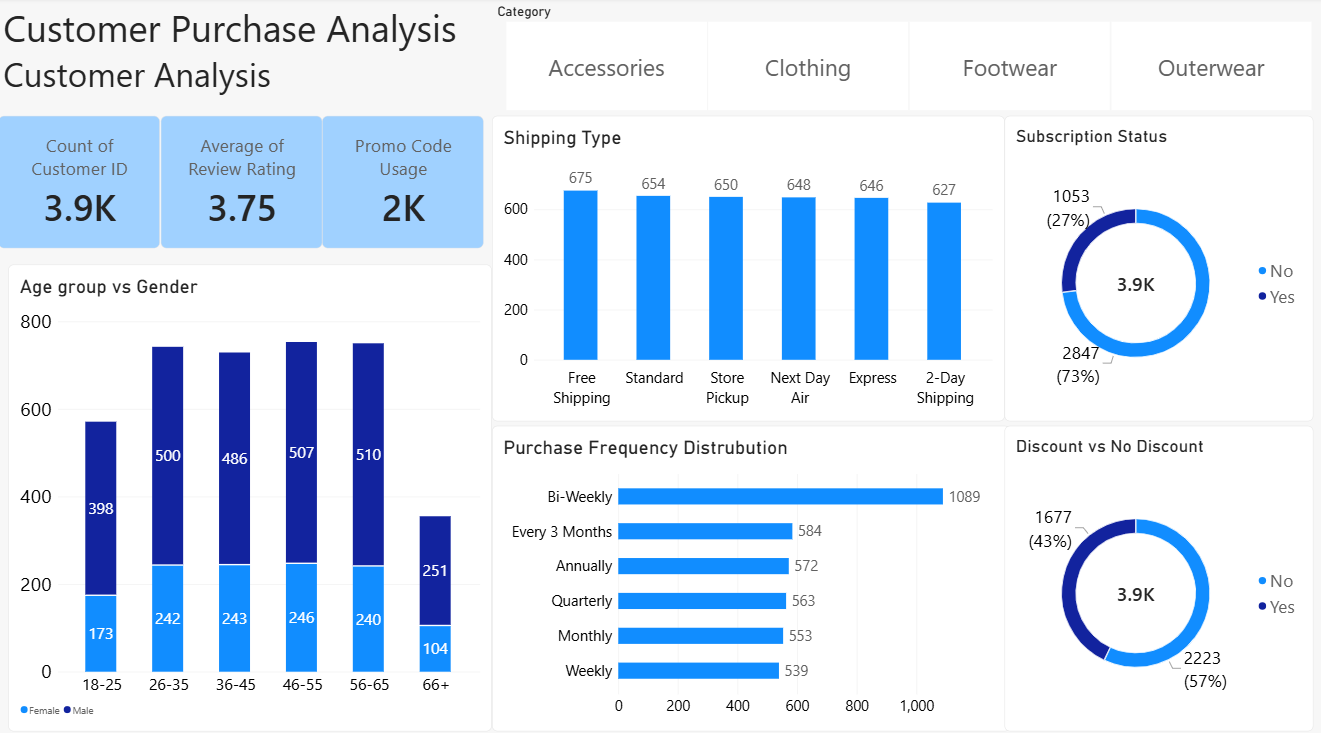

What the dashboard file says about the page in this screenshot:
{"tool":"powerbi","page":{"name":"Page 2","canvas":[1920,1080],"ordinal":1},"visuals":[{"type":"textbox","box":[8.6,6.5,708.5,166.3],"z":0},{"type":"barChart","title":"Purchase Frequency Distrubution","fields":{"Category":["customer_history_cleaned.Frequency of Purchases"],"Y":["CountNonNull(customer_history_cleaned.Customer ID)"]},"box":[715.8,621.1,750,442.1],"z":1000},{"type":"slicer","fields":{"Values":["customer_history_cleaned.Category"]},"box":[715.8,5.3,1205.3,160.5],"z":2000},{"type":"columnChart","title":"Age group vs Gender","fields":{"Category":["customer_history_cleaned.Age Group"],"Series":["customer_history_cleaned.Gender"],"Y":["CountNonNull(customer_history_cleaned.Customer ID)"]},"box":[15.8,386.8,700,676.3],"z":3000},{"type":"columnChart","title":"Shipping Type","fields":{"Category":["customer_history_cleaned.Shipping Type"],"Y":["CountNonNull(customer_history_cleaned.Customer ID)"]},"box":[715.8,171.1,742.1,442.1],"z":4000},{"type":"donutChart","title":"Subscription Status","fields":{"Category":["customer_history_cleaned.Subscription Status"],"Y":["CountNonNull(customer_history_cleaned.Customer ID)"]},"box":[1457.9,171.1,447.4,442.1],"z":5000},{"type":"cardVisual","fields":{"Data":["CountNonNull(customer_history_cleaned.Customer ID)"]},"box":[2.6,171.1,234.2,192.1],"z":6000},{"type":"donutChart","title":"Discount vs No Discount","fields":{"Category":["customer_history_cleaned.Discount Applied"],"Y":["CountNonNull(customer_history_cleaned.Customer ID)"]},"box":[1457.9,621.1,447.4,442.1],"z":9004},{"type":"cardVisual","fields":{"Data":["Avg(customer_history_cleaned.Review Rating)"]},"box":[236.8,171.1,234.2,192.1],"z":9005},{"type":"cardVisual","fields":{"Data":["customer_history_cleaned.Promo Code Usage"]},"box":[471.1,171.1,234.2,192.1],"z":9006}]}

Visuals, with their boxes in screenshot pixels (x1, y1, x2, y2), scaled from the page's 1920x1080 canvas onto the 1321x733 screenshot:
textbox: [6,4,493,117]
"Purchase Frequency Distrubution" barChart: [492,422,1009,722]
slicer - customer_history_cleaned.Category: [492,4,1320,113]
"Age group vs Gender" columnChart: [11,263,492,722]
"Shipping Type" columnChart: [492,116,1003,416]
"Subscription Status" donutChart: [1003,116,1311,416]
cardVisual - CountNonNull(customer_history_cleaned.Customer ID): [2,116,163,247]
"Discount vs No Discount" donutChart: [1003,422,1311,722]
cardVisual - Avg(customer_history_cleaned.Review Rating): [163,116,324,247]
cardVisual - customer_history_cleaned.Promo Code Usage: [324,116,485,247]
